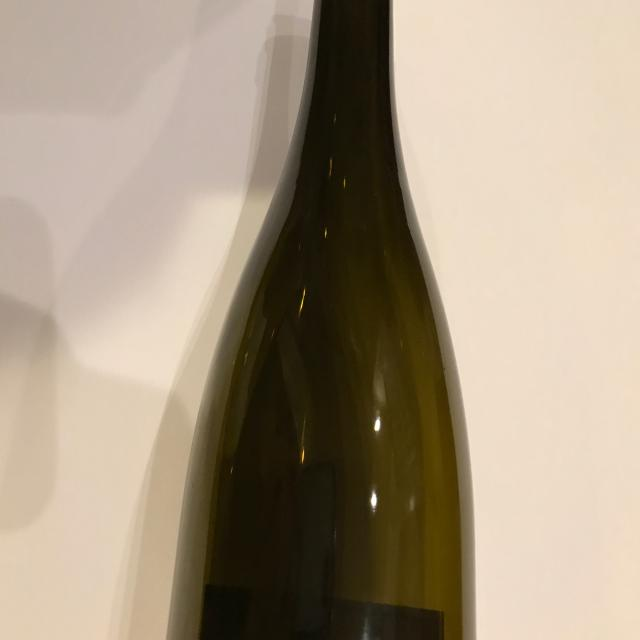glass: (187, 0, 476, 639)
